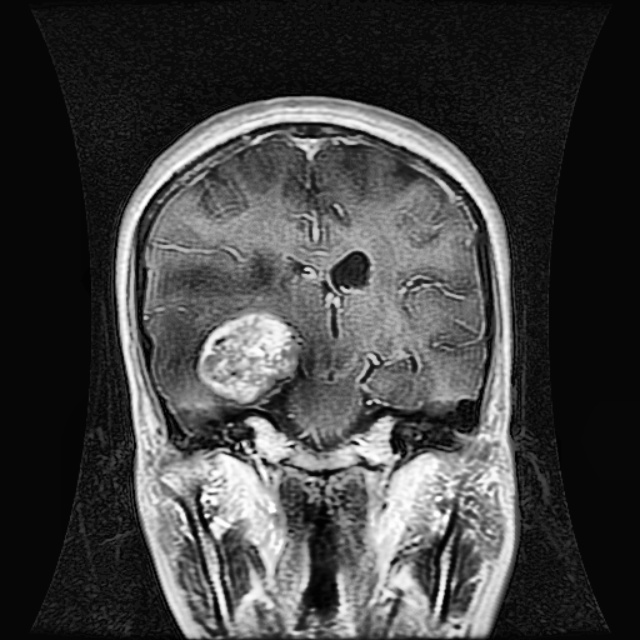Meningioma: (193, 307, 307, 407)
